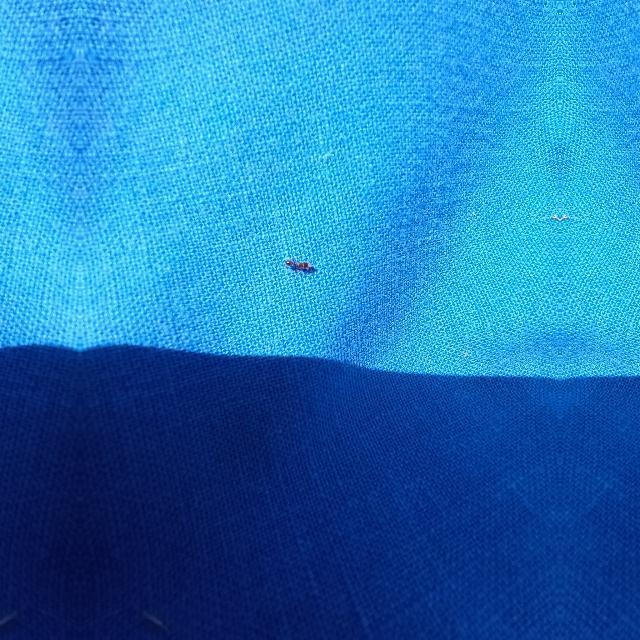Tetramorium: (280, 253, 314, 281)
